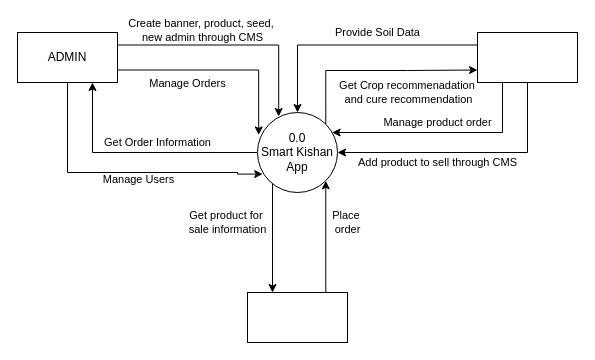
Some shapes in this 595 by 360 pixel diagram are drawn without their labels. Each missing label, with the centre of its shape:
"CUSTOMER" goes at (297,317).
"FARMER" goes at (527,57).
